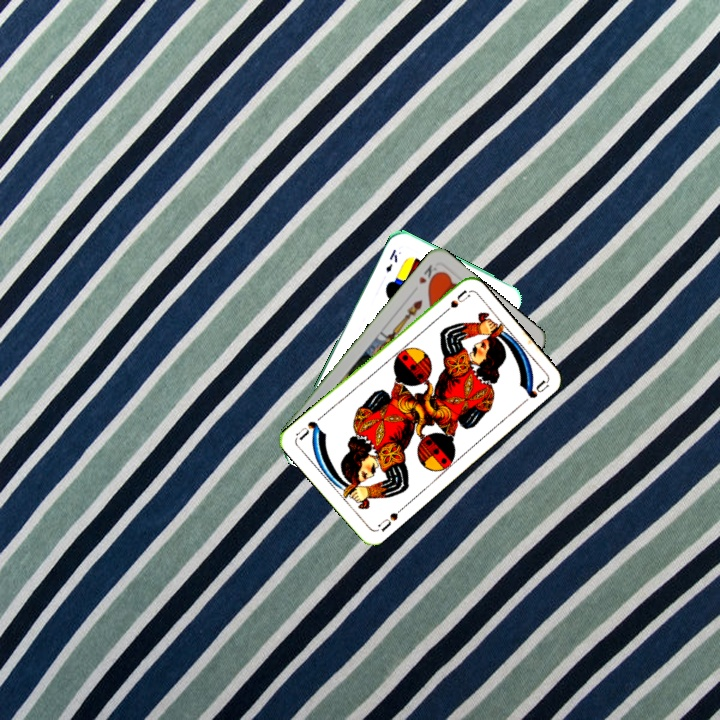EK: (382, 245, 400, 275)
HK: (415, 260, 442, 288)
SU: (436, 286, 472, 319), (373, 503, 407, 534)
